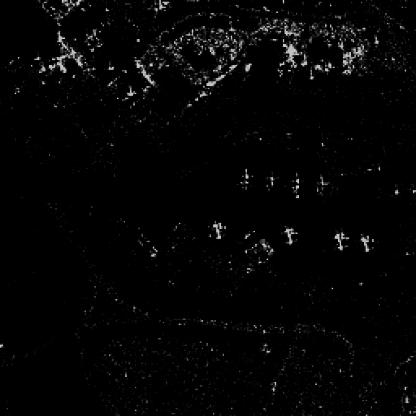airplane: (203, 215, 231, 242), (309, 169, 332, 200), (286, 167, 304, 202), (354, 228, 377, 255), (233, 166, 256, 193), (330, 228, 351, 255), (262, 169, 282, 195), (278, 224, 300, 245)
